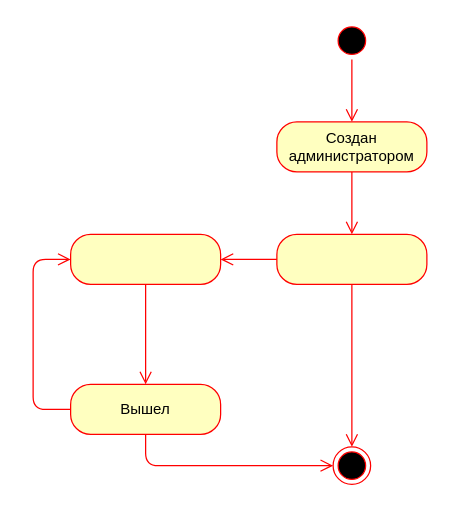
Image size: 449x506. Some labels were removed from this diagram. Each missing label, with the centre of its shape:
В базе данных: point 351,258
Вошел на сайт: point 145,258
